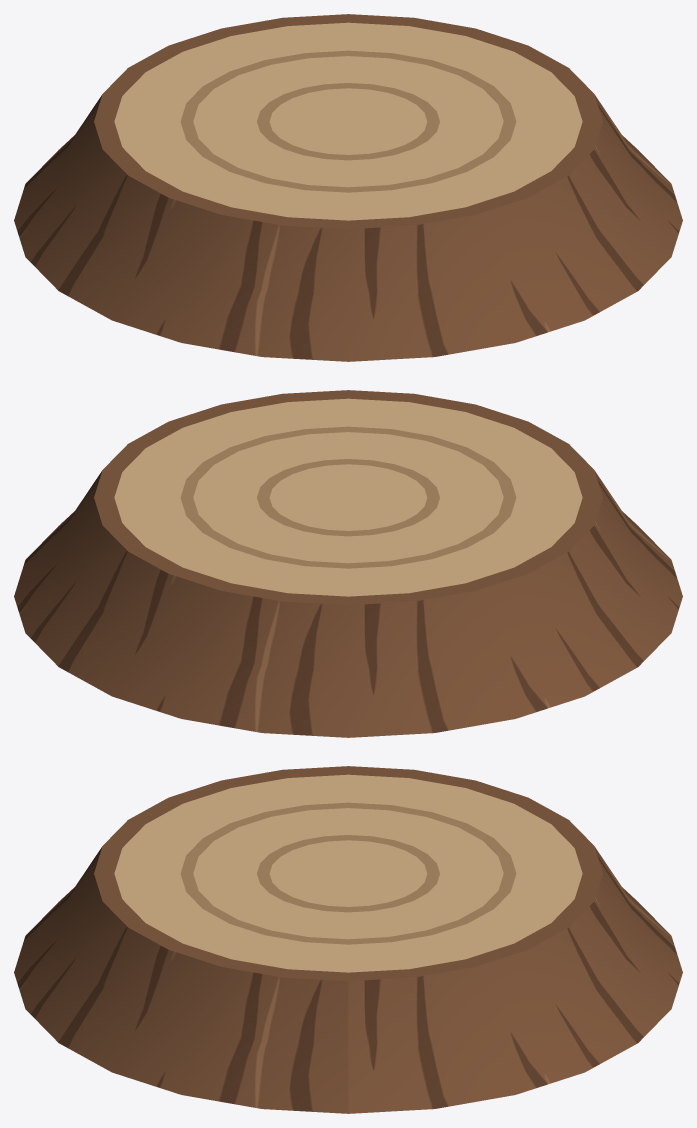
The model's file is stump.glb.
The picture shows the model from 3 angles, top to bottom: view 1: azimuth 30°, elevation 25°; view 2: azimuth 150°, elevation 25°; view 3: azimuth 270°, elevation 25°; orthographic projection.
Visible parts, largest first — view 1: stump; view 2: stump; view 3: stump.
Boxes of the visible parts, bbox=[...] form: stump: bbox=[14, 14, 682, 361]; stump: bbox=[14, 390, 682, 737]; stump: bbox=[14, 766, 682, 1113].
Bounding box in the file's own units: 9.2 × 1.5 × 9.2.
3 materials, 1 textured.
